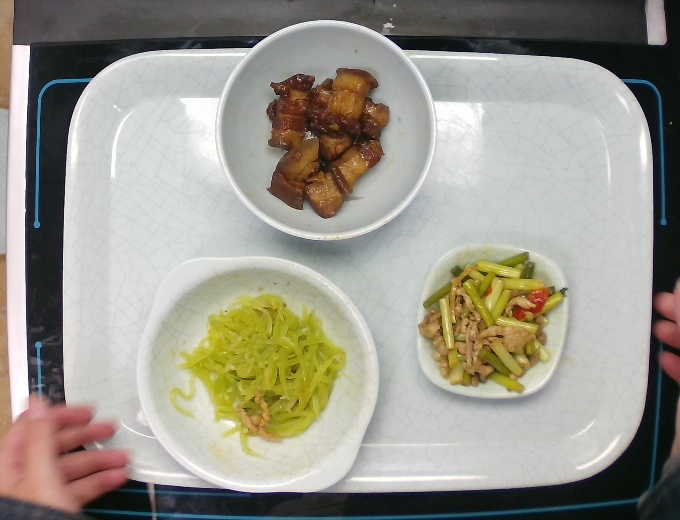JYsf-Fan_Wan: (193, 14, 441, 252)
JYsf-Shuang_Er_Wan: (128, 246, 388, 498)
JYsf-Si_Fang_Die: (394, 231, 581, 413)
